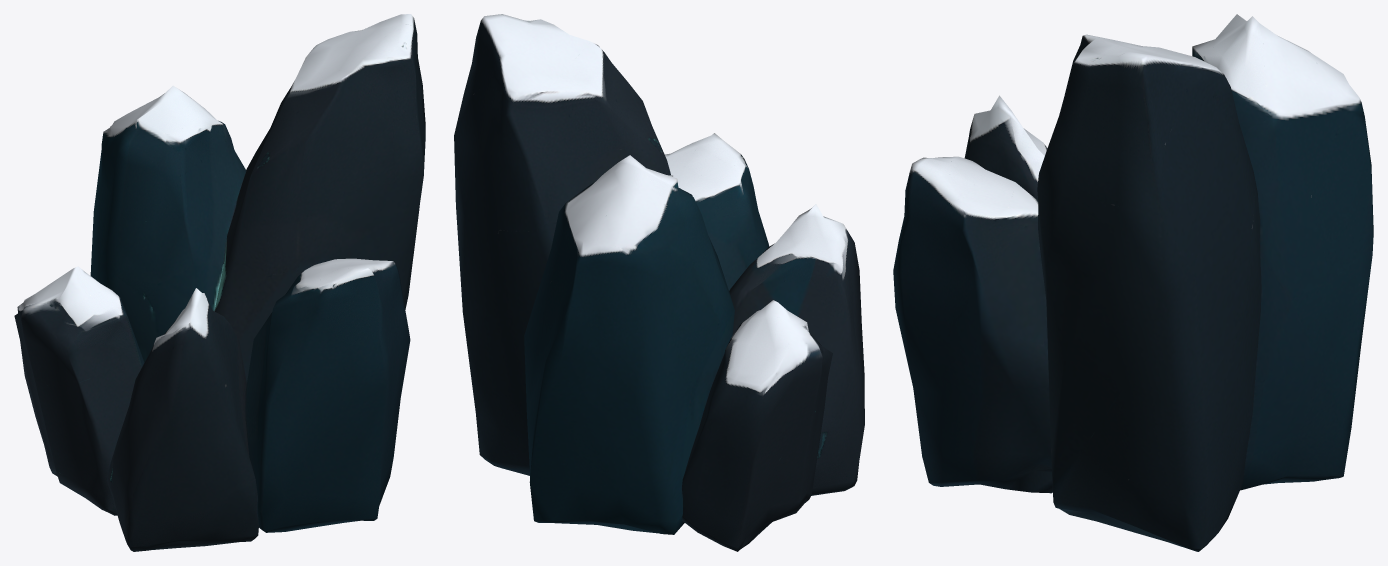
The model's file is ground_dressing.glb.
3 views of the same model, side by side, from view 1: azimuth 30°, elevation 25°; view 2: azimuth 150°, elevation 25°; view 3: azimuth 270°, elevation 25° (orthographic). The views are drawn at different scales.
Bounding box in the file's own units: 0.9473 × 1 × 0.8438.
1 material, 1 textured.
